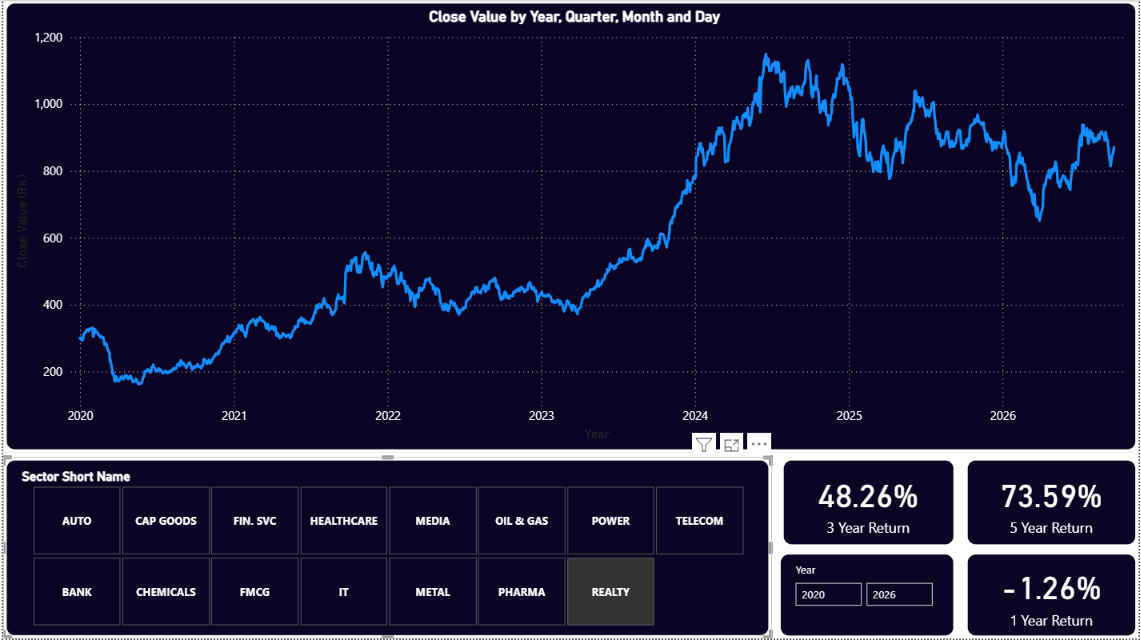

This screenshot's page, from the dashboard's own definition file:
{"tool":"powerbi","page":{"name":"Page 2","canvas":[1280,720],"ordinal":1},"visuals":[{"type":"lineChart","title":" Close Value by Year, Quarter, Month and Day","fields":{"Category":["Date Table.Date.Variation.Date Hierarchy.Year","Date Table.Date.Variation.Date Hierarchy.Quarter","Date Table.Date.Variation.Date Hierarchy.Month","Date Table.Date.Variation.Date Hierarchy.Day"],"Y":["Max(Combine Data.Close)"]},"box":[0,0,1280.2,510.5],"z":0},{"type":"slicer","fields":{"Values":["Combine Data.Sector Short Name"]},"box":[0,515.1,866.3,204.7],"z":1000},{"type":"slicer","fields":{"Values":["Date Table.Year"]},"box":[872.1,620.9,202.3,98.8],"z":1001},{"type":"card","fields":{"Values":["Combine Data.3 Year Return"]},"box":[875.6,514.5,198.8,102.3],"z":1002},{"type":"card","fields":{"Values":["Combine Data.5 Year Return"]},"box":[1083.7,514.5,196.5,102.3],"z":1003},{"type":"card","fields":{"Values":["Combine Data.1 Year Return"]},"box":[1083.7,620.9,196.5,98.8],"z":1004}]}

Visuals, with their boxes in screenshot pixels (x1, y1, x2, y2), scaled from the page's 1280x720 canvas onto the 1141x641 screenshot:
" Close Value by Year, Quarter, Month and Day" lineChart: 0, 0, 1140, 454
slicer - Combine Data.Sector Short Name: 0, 459, 772, 640
slicer - Date Table.Year: 777, 553, 958, 640
card - Combine Data.3 Year Return: 781, 458, 958, 549
card - Combine Data.5 Year Return: 966, 458, 1140, 549
card - Combine Data.1 Year Return: 966, 553, 1140, 640
